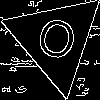O: (30, 15, 81, 71)
